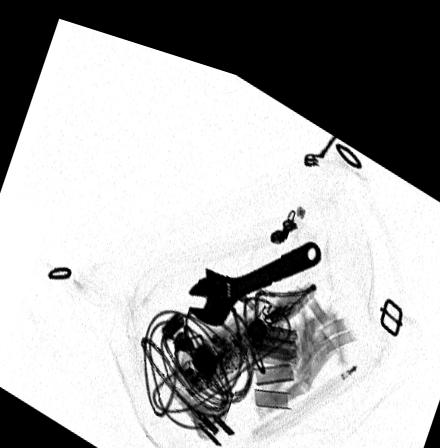Wrench: (185, 218, 324, 312)
